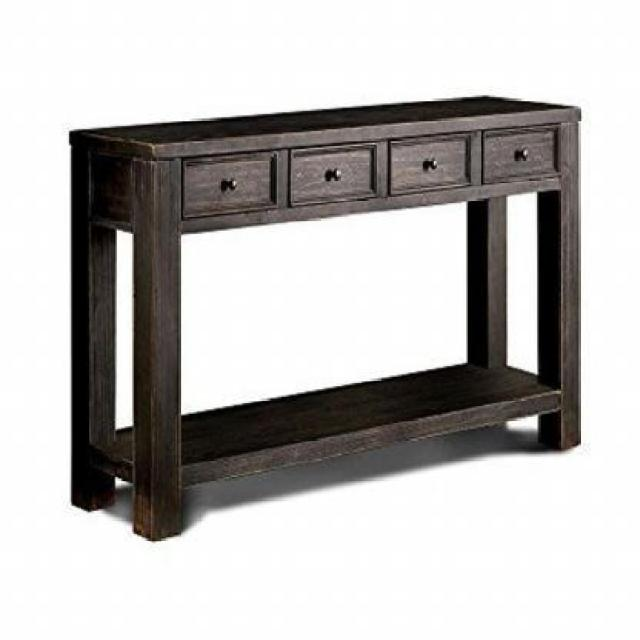tables: (68, 94, 582, 540)
